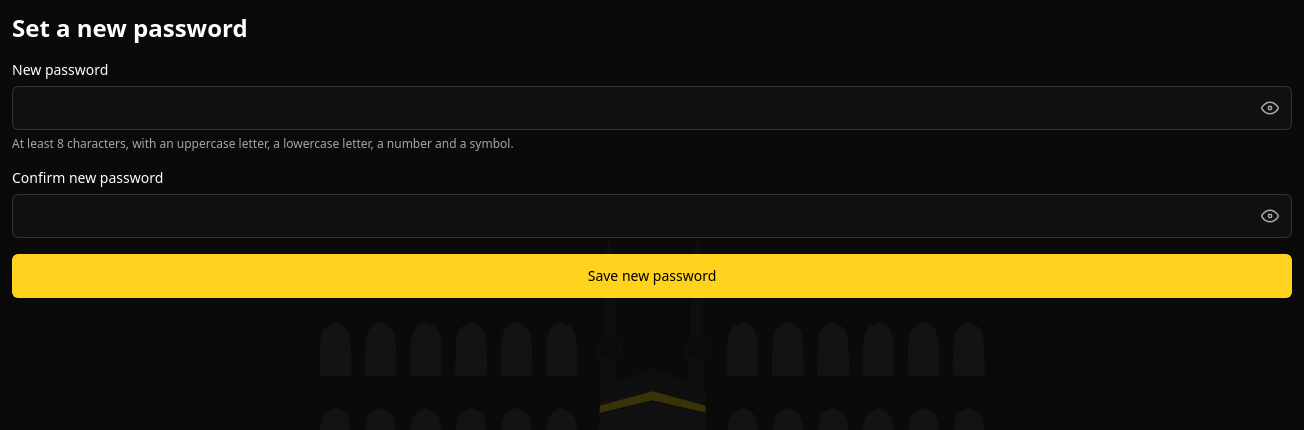
/reset-password sets the new password for the recovered session › updates the password and confirms
The width and height of the screenshot is (1304, 430).
Step 1. Type "NewPass1!" into the password field with test id "reset-password" → point(652, 108), box x1=12 y1=86 x2=1292 y2=130
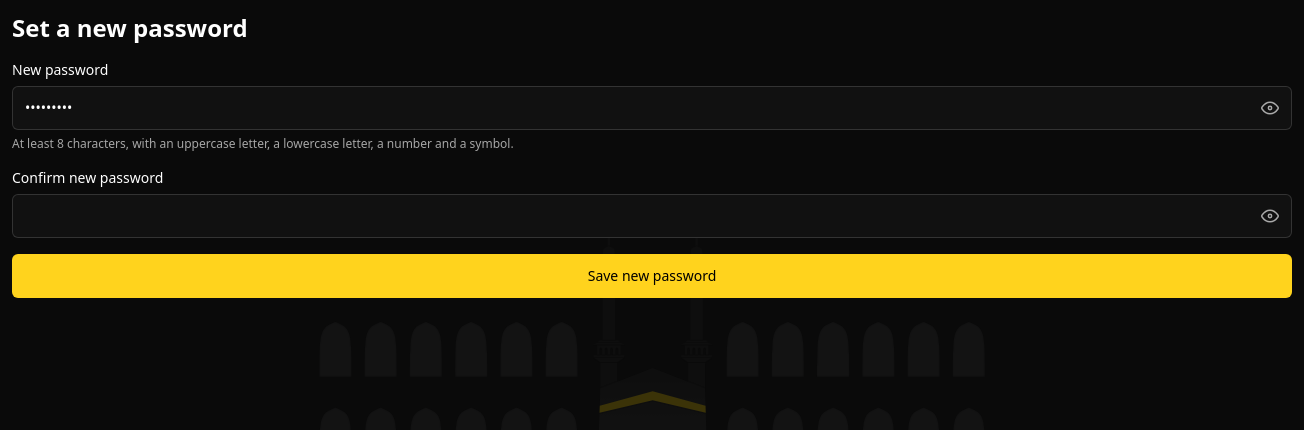
Step 2. Type "NewPass1!" into the password field with test id "reset-confirm" → point(652, 216), box x1=12 y1=194 x2=1292 y2=238
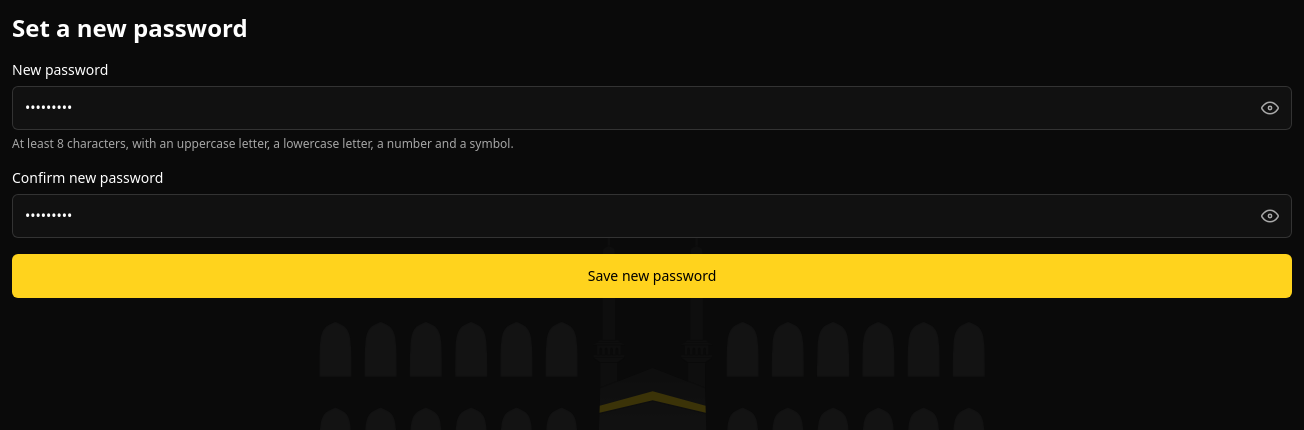
Step 3. Click the button with test id "reset-submit" → point(652, 276), box x1=12 y1=254 x2=1292 y2=298
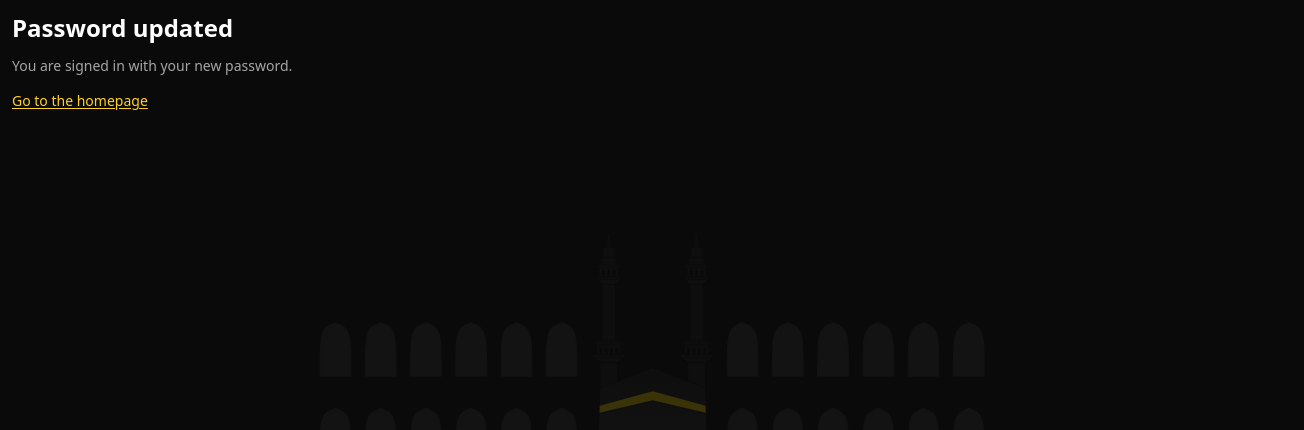
Expected: the message "Password updated You are signed in with your new password. Go to the homepage" is shown, x1=12 y1=11 x2=292 y2=110
